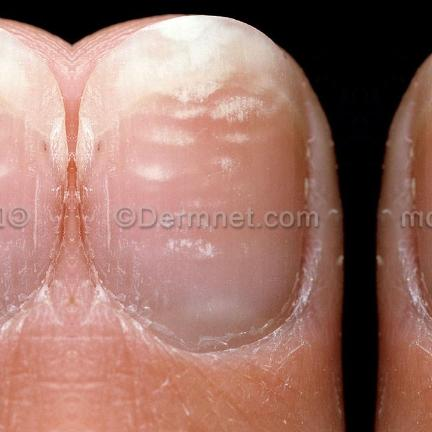Nail: (76, 15, 306, 352), (0, 31, 66, 326), (413, 63, 432, 321)
